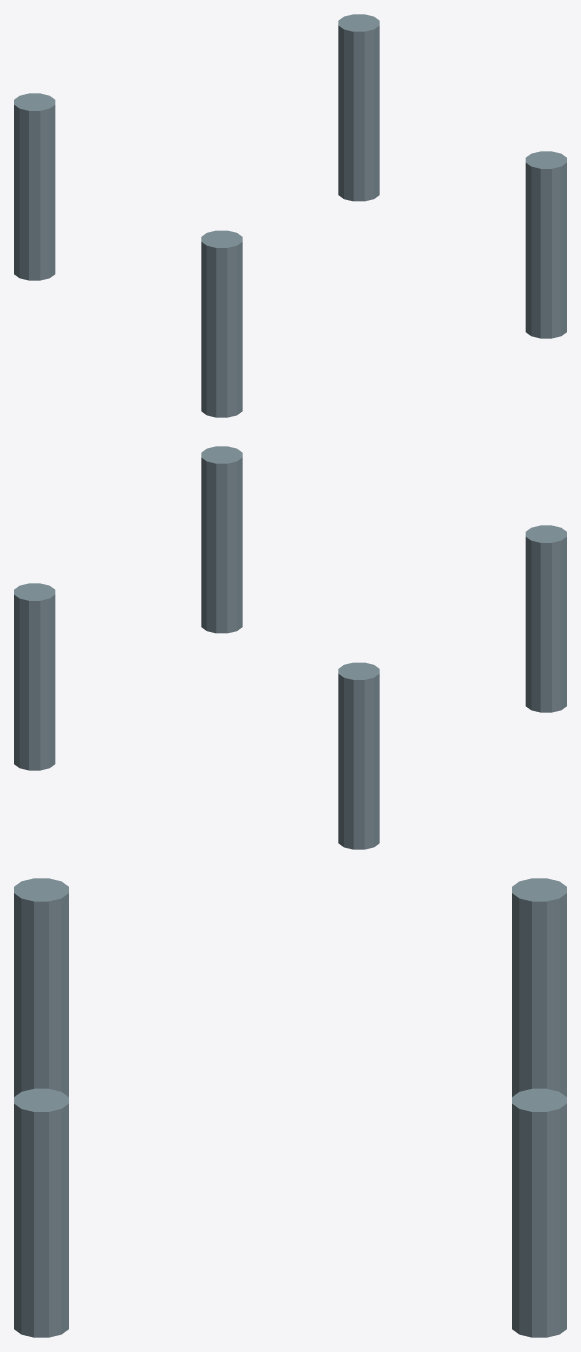
The model's file is Utility_WaterTank_Legs.glb.
3 views of the same model, one above another, from view 1: azimuth 30°, elevation 25°; view 2: azimuth 150°, elevation 25°; view 3: azimuth 270°, elevation 25° (orthographic). The views are drawn at different scales.
Parts seen in each view (by area): view 1: Utility_WaterTank_Legs; view 2: Utility_WaterTank_Legs; view 3: Utility_WaterTank_Legs.
Part boxes in pixels (x1,y1,x2,y2): Utility_WaterTank_Legs: (14,14,566,417); Utility_WaterTank_Legs: (14,446,566,849); Utility_WaterTank_Legs: (14,878,566,1337).
Bounding box in the file's own units: 1.55 × 0.7 × 1.55.
